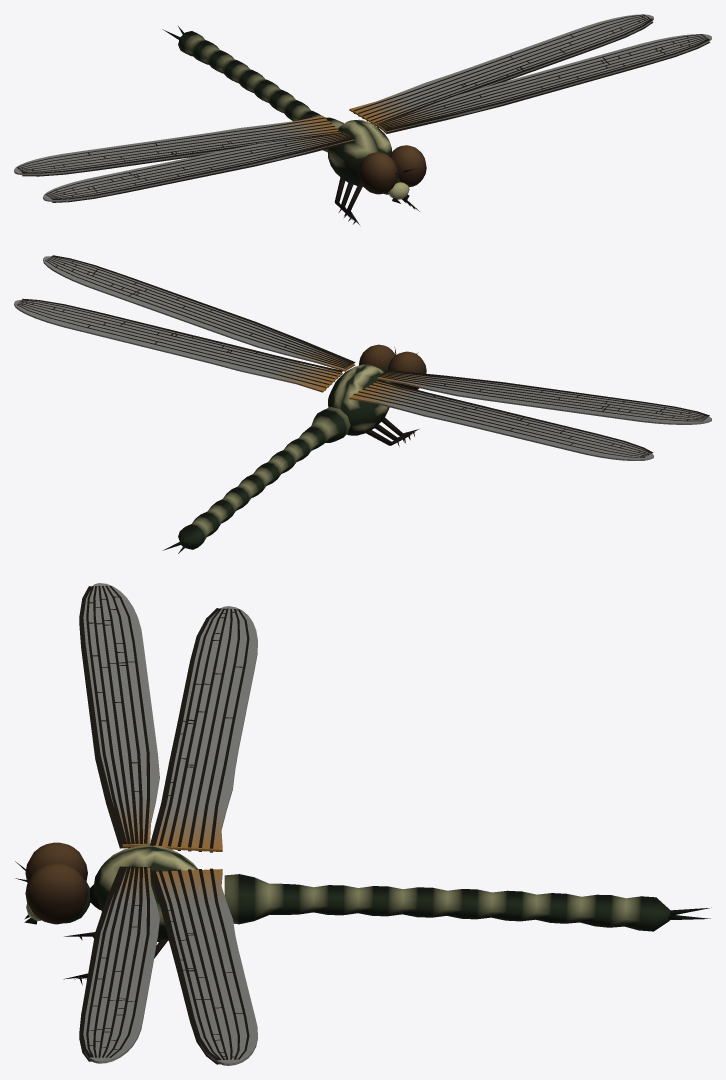
The model's file is Meganeuropsis.fbx.
3 views of the same model, one above another, from view 1: azimuth 30°, elevation 25°; view 2: azimuth 150°, elevation 25°; view 3: azimuth 270°, elevation 25° (orthographic). The views are drawn at different scales.
Parts seen in each view (by area): view 1: Meganeuropsis; view 2: Meganeuropsis; view 3: Meganeuropsis.
Part boxes in pixels (bbox=[...]): Meganeuropsis: bbox=[14, 14, 711, 224]; Meganeuropsis: bbox=[14, 255, 711, 553]; Meganeuropsis: bbox=[15, 583, 711, 1065].
Bounding box in the file's own units: 1.88 × 0.2599 × 1.16.
